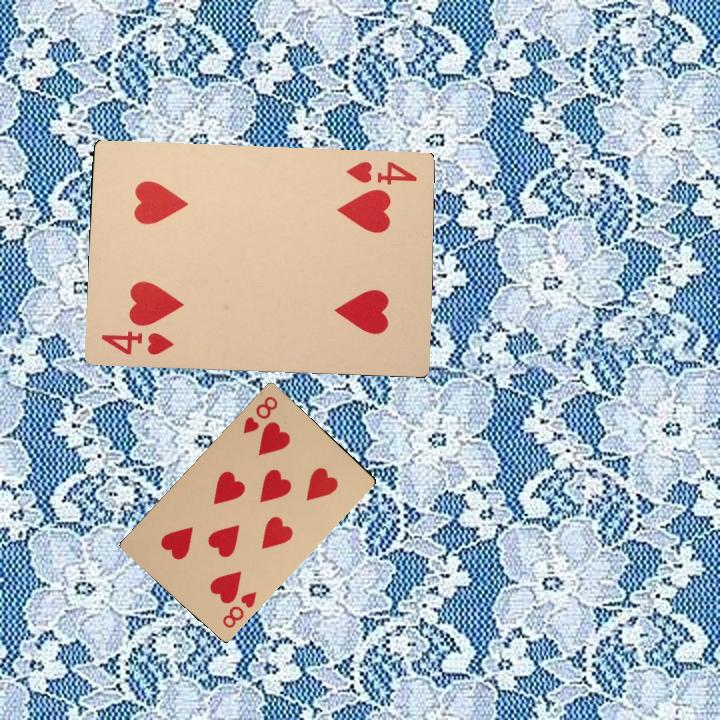4h: (97, 326, 176, 358), (343, 157, 420, 187)
8h: (239, 392, 280, 436), (218, 588, 259, 631)
